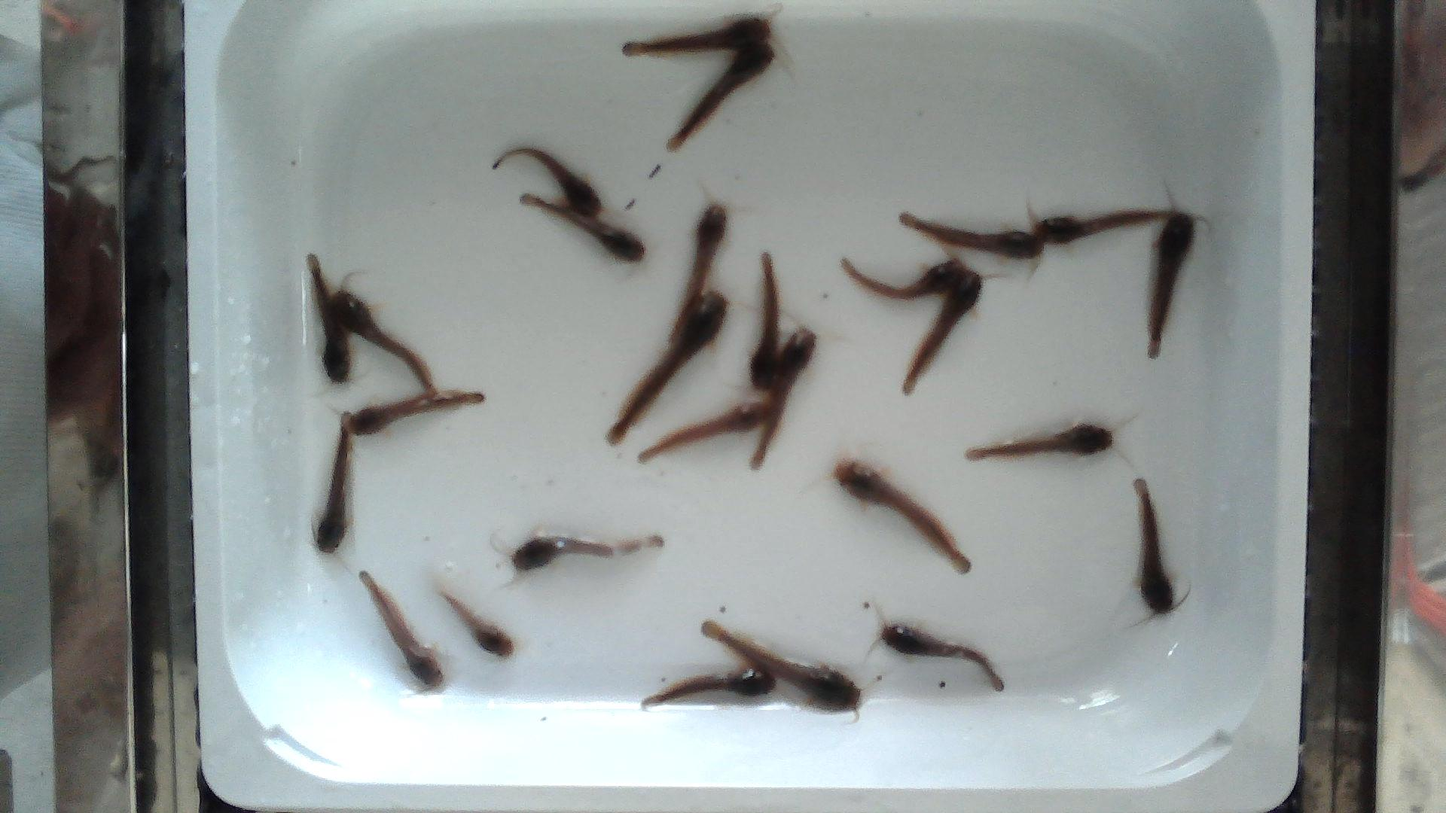lele: (606, 291, 730, 440), (835, 460, 970, 573), (703, 618, 864, 710), (325, 289, 437, 401), (662, 42, 775, 150), (360, 571, 444, 690), (904, 271, 980, 394), (751, 328, 816, 468), (520, 194, 646, 265), (880, 623, 1002, 690), (638, 400, 768, 461), (897, 212, 1042, 264), (672, 204, 725, 343), (492, 149, 601, 214), (1149, 213, 1194, 358), (350, 391, 488, 437), (621, 15, 770, 57), (1032, 210, 1186, 247), (1135, 479, 1176, 614), (966, 423, 1113, 460), (306, 254, 348, 381), (511, 536, 663, 570), (315, 423, 352, 552), (645, 668, 775, 704), (442, 590, 512, 656), (844, 260, 965, 297), (750, 255, 777, 389)
